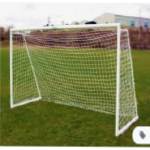goals: (8, 22, 138, 135)
